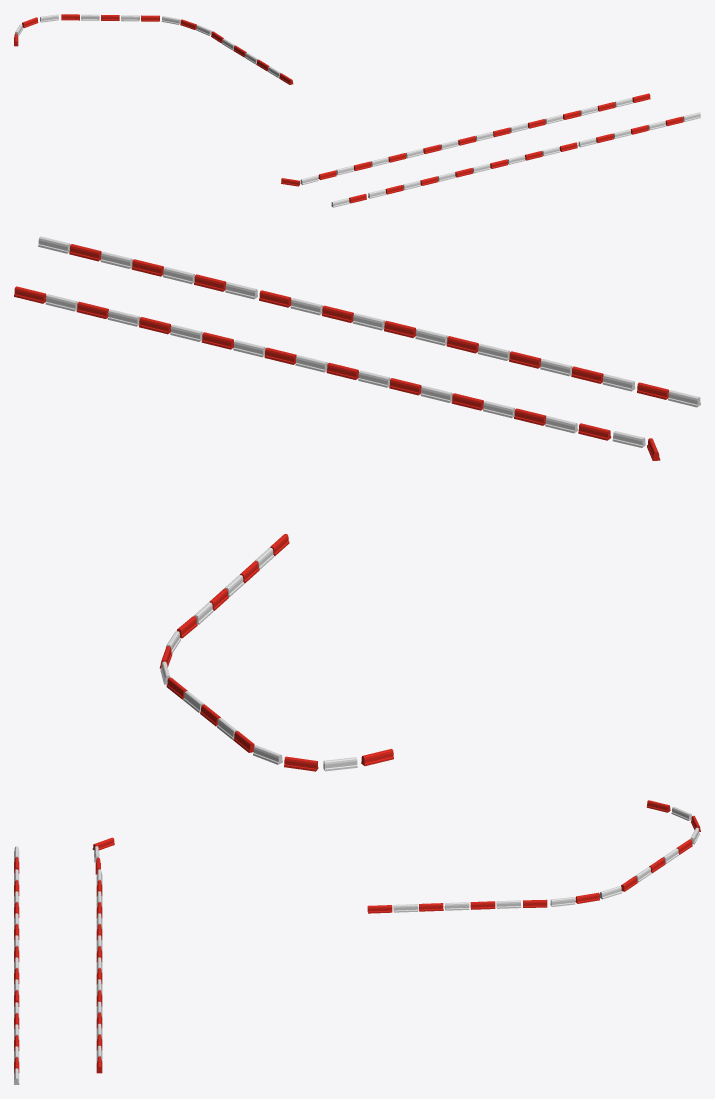
File: barrera2.fbx
3 views of the same model, one above another, from view 1: azimuth 30°, elevation 25°; view 2: azimuth 150°, elevation 25°; view 3: azimuth 270°, elevation 25° (orthographic). The views are drawn at different scales.
Size of the model in its own units: 19144 by 199 by 19907.
